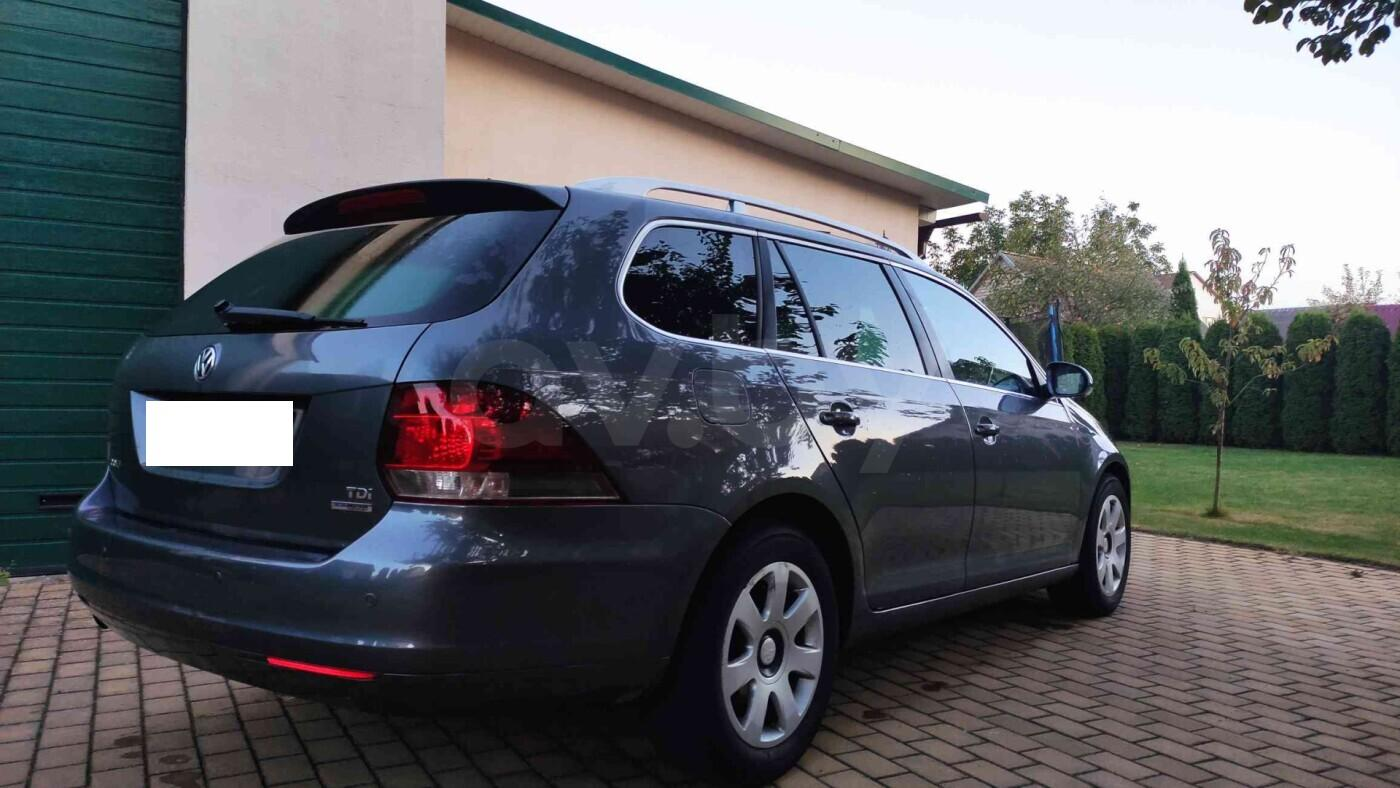Golf_2008-2013: (61, 175, 1134, 769)
